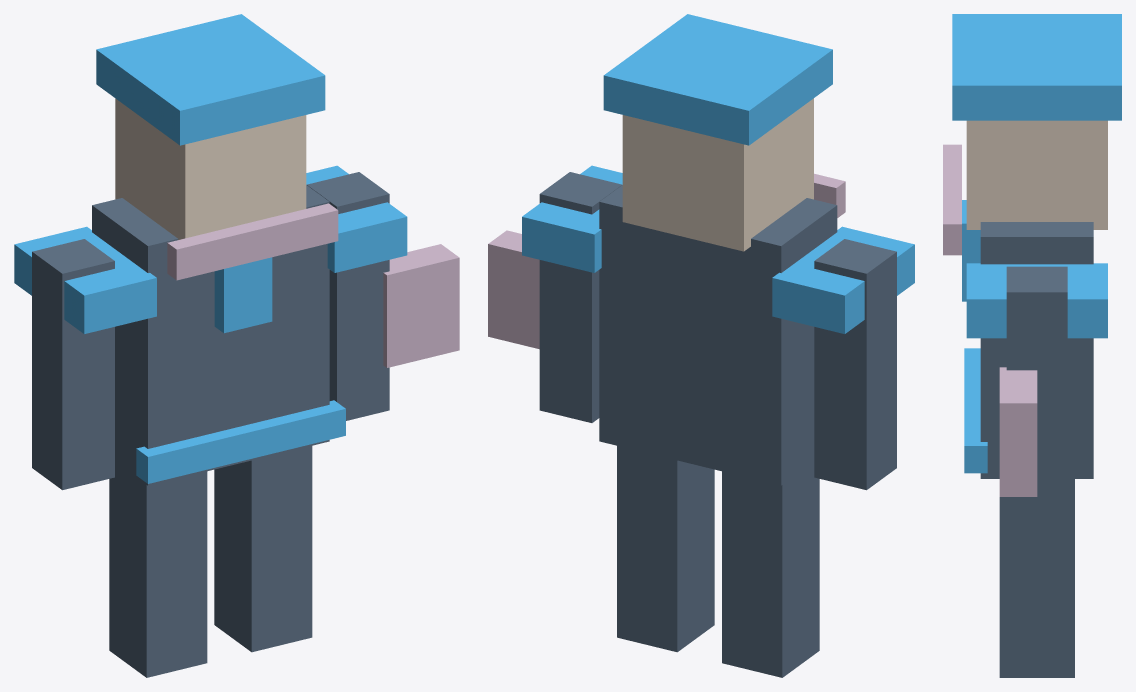
File: 01_kiva_brightlock_cartographer_under_drone.glb
3 renders of one model, left to right at view 1: azimuth 30°, elevation 25°; view 2: azimuth 150°, elevation 25°; view 3: azimuth 270°, elevation 25°, orthographic.
Visible parts, largest first — view 1: Kiva Brightlock, Cartographer under Drone; view 2: Kiva Brightlock, Cartographer under Drone; view 3: Kiva Brightlock, Cartographer under Drone.
Part boxes in pixels (<box>): Kiva Brightlock, Cartographer under Drone: <box>14,14,459,677</box>; Kiva Brightlock, Cartographer under Drone: <box>488,14,914,677</box>; Kiva Brightlock, Cartographer under Drone: <box>943,14,1121,677</box>.
Bounding box in the file's own units: 1.03 × 1.45 × 0.3999.
